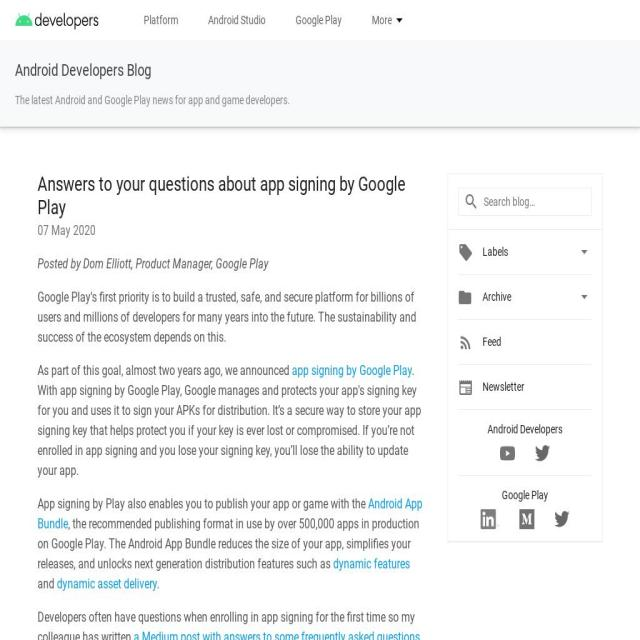button: (458, 376, 592, 397), (458, 332, 592, 352), (366, 0, 430, 22), (15, 13, 99, 27), (480, 509, 520, 529), (500, 444, 535, 464), (519, 509, 554, 529), (535, 444, 550, 464), (554, 509, 569, 529), (372, 13, 392, 27)
field: (458, 187, 592, 216)
heading: (38, 173, 406, 220), (482, 376, 524, 396), (482, 286, 512, 308), (483, 242, 508, 262), (482, 332, 502, 352)
image: (15, 7, 99, 33), (480, 508, 500, 530), (458, 242, 473, 264), (519, 508, 534, 530), (554, 508, 569, 530), (458, 377, 473, 398), (500, 442, 515, 463), (535, 442, 550, 463), (392, 10, 407, 30), (458, 332, 473, 352)
link: (38, 496, 422, 532), (15, 93, 290, 107), (134, 629, 420, 640), (15, 60, 151, 80), (292, 362, 412, 378), (57, 576, 157, 592), (333, 556, 410, 572), (208, 13, 266, 27), (296, 13, 342, 27), (144, 13, 178, 27)
text: (38, 362, 422, 478), (38, 288, 428, 348), (38, 516, 420, 572), (37, 609, 415, 640), (38, 496, 368, 512), (38, 629, 426, 640), (37, 362, 292, 378), (38, 256, 268, 272), (458, 421, 592, 444), (458, 487, 592, 510), (38, 222, 96, 238), (577, 286, 592, 308), (37, 576, 57, 592), (577, 242, 592, 262), (458, 288, 472, 308), (372, 0, 394, 8), (157, 576, 159, 592)
